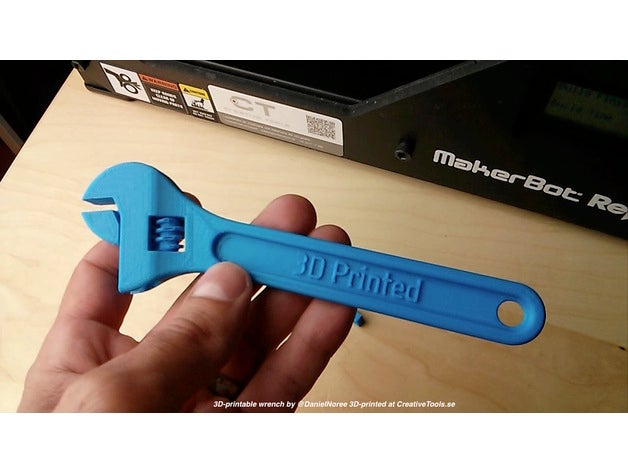Good: (60, 150, 571, 362)
